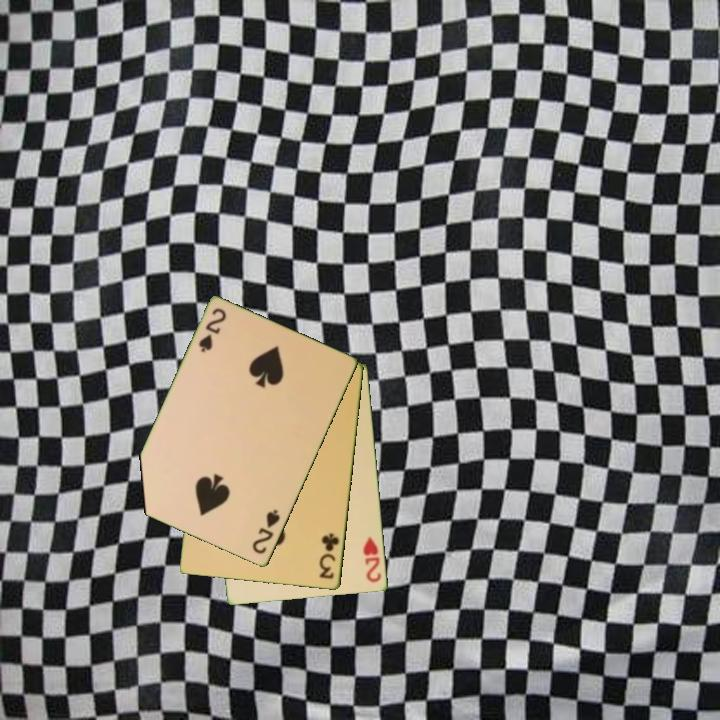2h: (360, 533, 384, 585)
2s: (195, 305, 230, 356), (249, 506, 283, 557)
3c: (316, 530, 342, 582)
